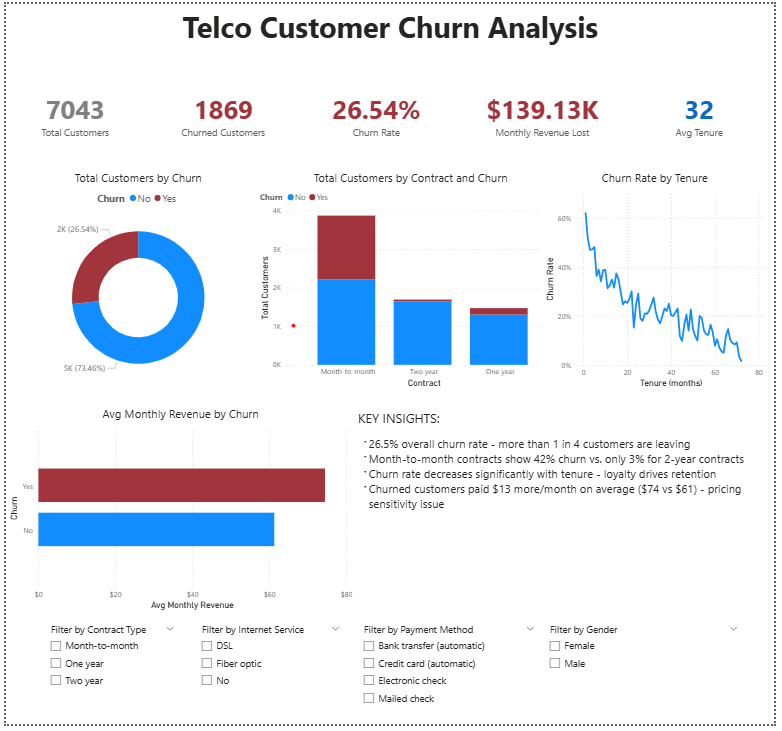

Layout of this report page (visuals, bound fields, positions):
{"tool":"powerbi","page":{"name":"Executive Summary","canvas":[1280,1200],"ordinal":0},"visuals":[{"type":"textbox","box":[9.6,0,1260.8,82.4],"z":0},{"type":"card","fields":{"Values":["telco_customer_churn.Total Customers"]},"box":[0,109.9,230.7,149.7],"z":1000},{"type":"card","fields":{"Values":["telco_customer_churn.Churned Customers"]},"box":[245.8,109.9,230.7,149.7],"z":2000},{"type":"card","fields":{"Values":["telco_customer_churn.Churn Rate"]},"box":[501.3,109.9,230.7,149.7],"z":3000},{"type":"card","fields":{"Values":["telco_customer_churn.Monthly Revenue Lost"]},"box":[778.7,109.9,230.7,149.7],"z":4000},{"type":"card","fields":{"Values":["telco_customer_churn.Avg Tenure"]},"box":[1039.7,109.9,230.7,149.7],"z":5000},{"type":"donutChart","fields":{"Category":["telco_customer_churn.Churn"],"Y":["telco_customer_churn.Total Customers"]},"box":[0,276.1,440.9,368.1],"z":6000},{"type":"columnChart","fields":{"Category":["telco_customer_churn.Contract"],"Y":["telco_customer_churn.Total Customers"],"Series":["telco_customer_churn.Churn"]},"box":[417.5,276.1,512.3,368.1],"z":7000},{"type":"lineChart","title":"Churn Rate by Tenure","fields":{"Y":["telco_customer_churn.Churn Rate"],"Category":["telco_customer_churn.tenure"]},"box":[894.1,276.1,376.3,368.1],"z":8000},{"type":"clusteredBarChart","fields":{"Y":["telco_customer_churn.Avg Monthly Revenue"],"Category":["telco_customer_churn.Churn"]},"box":[0,670.6,582.4,344.9],"z":9000},{"type":"textbox","box":[582.4,670.6,688.2,344.9],"z":10000},{"type":"slicer","fields":{"Values":["telco_customer_churn.Contract"]},"box":[61,1026.7,231,173.3],"z":11000},{"type":"slicer","fields":{"Values":["telco_customer_churn.InternetService"]},"box":[312.8,1026.7,255.1,162],"z":12000},{"type":"slicer","fields":{"Values":["telco_customer_churn.PaymentMethod"]},"box":[584,1026.7,309.6,162],"z":13000},{"type":"slicer","fields":{"Values":["telco_customer_churn.gender"]},"box":[893.6,1026.7,338.5,162],"z":14000}]}

Visuals, with their boxes in screenshot pixels (x1, y1, x2, y2), scaled from the page's 1280x1200 canvas onto the 782x731 screenshot:
textbox: [6,0,776,50]
card - telco_customer_churn.Total Customers: [0,67,141,158]
card - telco_customer_churn.Churned Customers: [150,67,291,158]
card - telco_customer_churn.Churn Rate: [306,67,447,158]
card - telco_customer_churn.Monthly Revenue Lost: [476,67,617,158]
card - telco_customer_churn.Avg Tenure: [635,67,776,158]
donutChart - telco_customer_churn.Churn x telco_customer_churn.Total Customers: [0,168,269,392]
columnChart - telco_customer_churn.Contract x telco_customer_churn.Total Customers: [255,168,568,392]
"Churn Rate by Tenure" lineChart: [546,168,776,392]
clusteredBarChart - telco_customer_churn.Avg Monthly Revenue x telco_customer_churn.Churn: [0,409,356,619]
textbox: [356,409,776,619]
slicer - telco_customer_churn.Contract: [37,625,178,730]
slicer - telco_customer_churn.InternetService: [191,625,347,724]
slicer - telco_customer_churn.PaymentMethod: [357,625,546,724]
slicer - telco_customer_churn.gender: [546,625,753,724]
